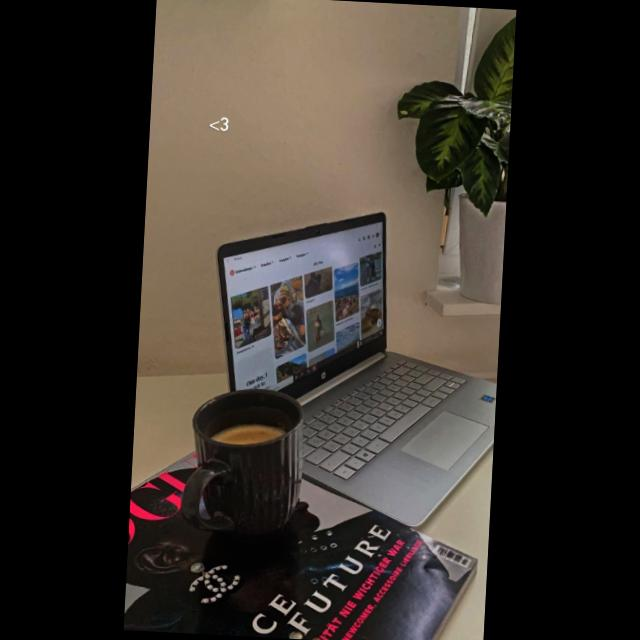laptop: (217, 213, 496, 527)
